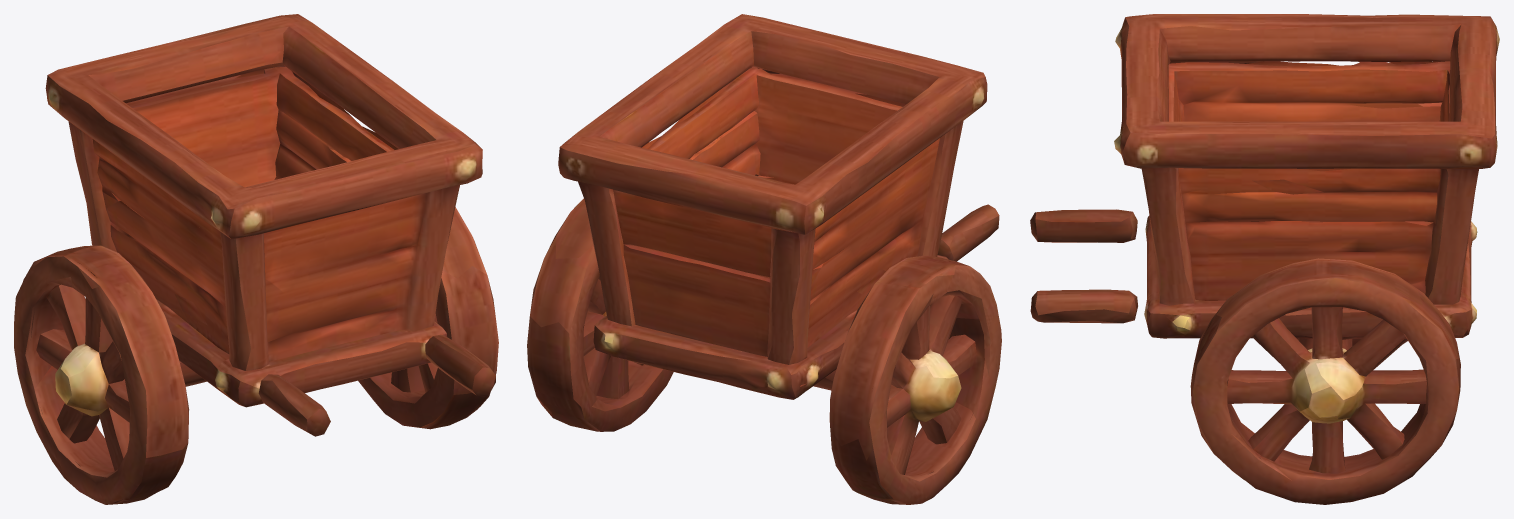
File: a-wooden-war-chariot-with-two-bi-1cbf6b.glb
3 views of the same model, side by side, from view 1: azimuth 30°, elevation 25°; view 2: azimuth 150°, elevation 25°; view 3: azimuth 270°, elevation 25° (orthographic). The views are drawn at different scales.
Parts seen in each view (by area): view 1: geometry_0; view 2: geometry_0; view 3: geometry_0.
Boxes of the visible parts, box(x1,y1,x2,y2) form: geometry_0: box(14, 14, 498, 504); geometry_0: box(527, 14, 1001, 504); geometry_0: box(1030, 14, 1499, 504).
Size of the model in its own units: 0.9409 by 0.8215 by 1.
Materials: 1 (1 with a texture image).
